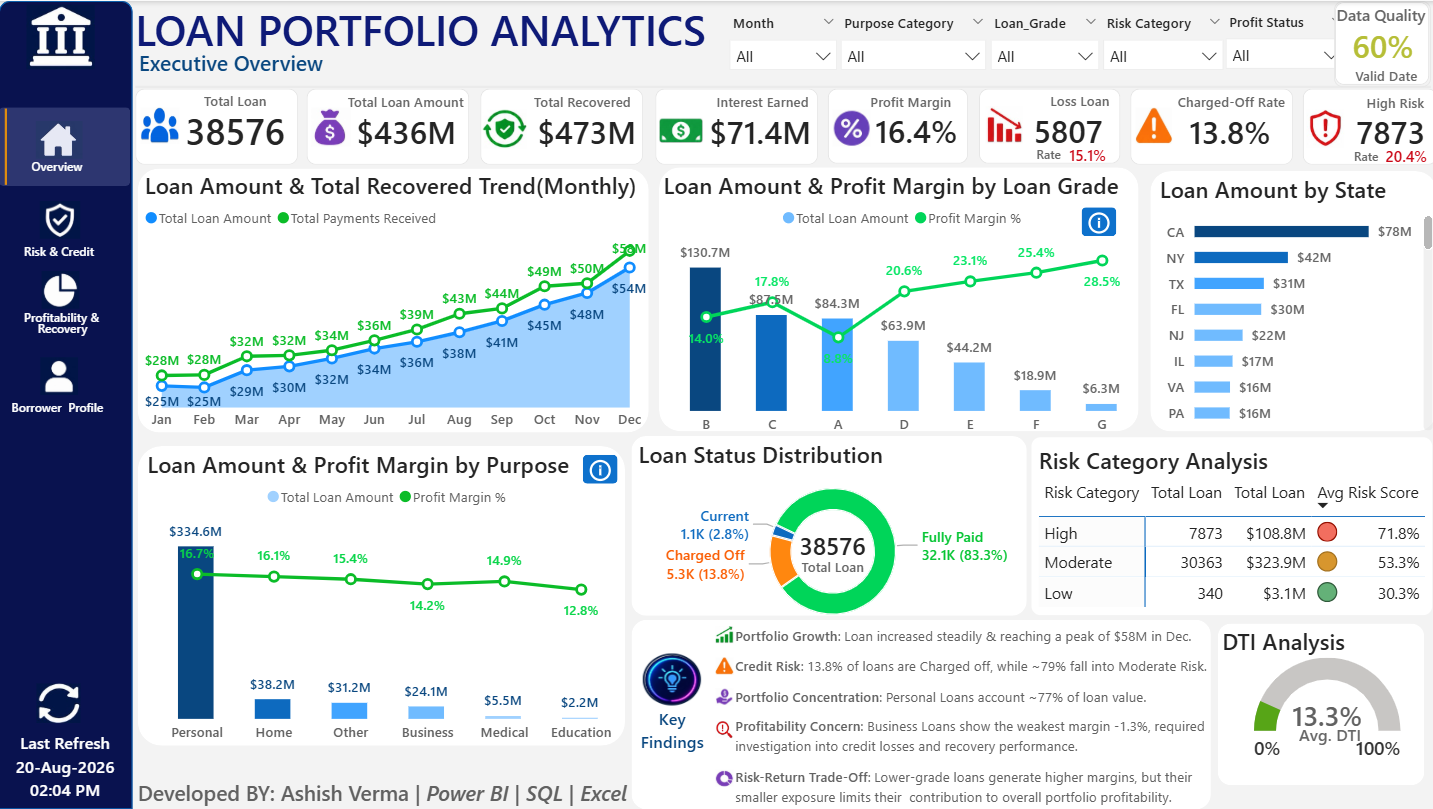

Layout of this report page (visuals, bound fields, positions):
{"tool":"powerbi","page":{"name":"Overview","canvas":[1280,720],"ordinal":0},"visuals":[{"type":"textbox","box":[121,0,522,50],"z":0,"group":"g28"},{"type":"cardVisual","fields":{"Data":["_Measures.In-Valid Loans"]},"box":[1189.3,0,86.4,76.7],"z":0,"group":"g39"},{"type":"slicer","fields":{"Values":["Dim_Date.Month Name"]},"box":[645.3,11.5,105.7,56],"z":0,"group":"g38"},{"type":"group","id":"g1","title":"Group 9","box":[121,78,145,68],"z":0,"group":"g26"},{"type":"cardVisual","fields":{"Data":["_Measures.Total Loan Count"]},"box":[121,78,145,68],"z":0,"group":"g1"},{"type":"cardVisual","fields":{"Data":["_Measures.Total Loan Amount"]},"box":[274,78,145,68],"z":0,"group":"g13"},{"type":"cardVisual","fields":{"Data":["_Measures.Total Payments Received"]},"box":[428,78,145,68],"z":0,"group":"g19"},{"type":"cardVisual","fields":{"Data":["_Measures.Total Profit"]},"box":[583.9,78,145,68],"z":0,"group":"g21"},{"type":"cardVisual","fields":{"Data":["_Measures.Charged Off Count %"]},"box":[1007,78,145,68],"z":0,"group":"g24"},{"type":"group","id":"g2","title":"Group 12","box":[1161,78,129.5,72.6],"z":0,"group":"g27"},{"type":"group","id":"g3","title":"Group 9","box":[1161,78,120.9,68],"z":0,"group":"g2"},{"type":"cardVisual","fields":{"Data":["_Measures.High Risk Loans Count"]},"box":[1161,78,120.9,68],"z":0,"group":"g3"},{"type":"cardVisual","fields":{"Data":["_Measures.Loss Loans Count"]},"box":[872,78.1,126.4,67.3],"z":0,"group":"g29"},{"type":"cardVisual","fields":{"Data":["_Measures.Profit Margin %"]},"box":[738.2,78.3,125.3,67.3],"z":0,"group":"g30"},{"type":"group","id":"g4","title":"Group 2","box":[0,95,116.9,70.1],"z":0,"group":"g14"},{"type":"group","id":"g5","title":"Group 1","box":[0,95,116.9,70.1],"z":0,"group":"g4"},{"type":"image","box":[20,107.8,66.8,33.4],"z":0,"group":"g5"},{"type":"cardVisual","fields":{"Data":["_Measures.Loss Loan Rate %"]},"box":[932,127.1,73.6,17.3],"z":0,"group":"g22"},{"type":"cardVisual","fields":{"Data":["_Measures.High Risk Count %"]},"box":[1216.8,128,73.6,17.3],"z":0,"group":"g15"},{"type":"shape","box":[588,148,427,235],"z":0,"group":"g32"},{"type":"shape","box":[124,149,455,235],"z":0,"group":"g31"},{"type":"shape","box":[1025,151,255,232],"z":0,"group":"g33"},{"type":"group","id":"g6","title":"Group 1","box":[21,178.3,66.9,53.5],"z":0,"group":"g20"},{"type":"image","box":[21,178.3,66.8,33.4],"z":0,"group":"g6"},{"type":"group","id":"g7","title":"Group 31","box":[963.2,183.2,31.7,26],"z":0,"group":"g45"},{"type":"group","id":"g8","title":"Group 5","box":[21,241.1,76.9,61.1],"z":0,"group":"g23"},{"type":"group","id":"g9","title":"Group 1","box":[21,241.1,76.9,52.6],"z":0,"group":"g16"},{"type":"image","box":[21,241.1,66.8,33.4],"z":0,"group":"g9"},{"type":"textbox","box":[34,281,54.5,21.2],"z":0,"group":"g8"},{"type":"group","id":"g10","title":"Group 2","box":[11,317.6,95,53.4],"z":0,"group":"g25"},{"type":"group","id":"g11","title":"Group 1","box":[11,317.6,95,53.4],"z":0,"group":"g10"},{"type":"image","box":[20,317.6,66.8,33.4],"z":0,"group":"g11"},{"type":"shape","box":[563,387,352,160],"z":0,"group":"g34"},{"type":"donutChart","title":"Loan Status Distribution","fields":{"Category":["Dim_Loan.Loan_Status"],"Y":["_Measures.Total Loan Count"]},"box":[565,387,354,175],"z":0,"group":"g17"},{"type":"shape","box":[124,396,434,267],"z":0},{"type":"group","id":"g12","title":"Group 31","box":[519.4,404,31.7,26],"z":0,"group":"g44"},{"type":"textbox","box":[714.8,492.4,64.9,27],"z":0,"group":"g18"},{"type":"shape","box":[1085,554,184,144],"z":0,"group":"g35"},{"type":"textbox","box":[656.3,554.1,424,21],"z":0,"group":"g40"},{"type":"image","box":[638.3,556.1,16,15],"z":0,"group":"g41"},{"type":"shape","box":[0,0,119,720],"z":1000},{"type":"slicer","fields":{"Values":["Dim_Loan.Loan_Grade"]},"box":[877.7,11.5,106.7,56],"z":1000,"group":"g38"},{"type":"textbox","box":[124,42,216,25],"z":1000,"group":"g28"},{"type":"textbox","box":[1208.3,55.2,68.3,21.1],"z":1000,"group":"g39"},{"type":"group","id":"g13","title":"Group 9","box":[274,78,145.3,68],"z":1000,"group":"g26"},{"type":"image","box":[877.9,93.5,33.6,33.6],"z":1000,"group":"g29"},{"type":"group","id":"g14","title":"Group 3","box":[0,95,116.9,70.1],"z":1000,"group":"g25"},{"type":"shape","box":[0,95,116.9,70.1],"z":1000,"group":"g5"},{"type":"image","box":[126,95,35,33],"z":1000,"group":"g1"},{"type":"image","box":[279,95,35,35],"z":1000,"group":"g13"},{"type":"image","box":[1012,95,33,33],"z":1000,"group":"g24"},{"type":"shape","box":[0,96.1,12.2,68],"z":1000,"group":"g4"},{"type":"image","box":[742.2,97,33.5,33],"z":1000,"group":"g30"},{"type":"image","box":[430.7,97.1,39.1,34.5],"z":1000,"group":"g19"},{"type":"image","box":[1164.6,97.1,33.6,33.6],"z":1000,"group":"g3"},{"type":"image","box":[587.5,102.5,39.1,25.5],"z":1000,"group":"g21"},{"type":"textbox","box":[922.8,126.1,37.3,23.6],"z":1000,"group":"g22"},{"type":"group","id":"g15","title":"Group 11","box":[1206.9,127,83.6,23.6],"z":1000,"group":"g2"},{"type":"textbox","box":[1206.9,127,37.3,23.6],"z":1000,"group":"g15"},{"type":"areaChart","title":"Loan Amount & Total Recovered Trend(Monthly)","fields":{"Category":["Dim_Date.Month Name"],"Y":["_Measures.Total Loan Amount","_Measures.Total Payments Received"]},"box":[126,148,455,238],"z":1000,"group":"g31"},{"type":"lineClusteredColumnComboChart","title":"Loan Amount & Profit Margin by Loan Grade","fields":{"Category":["Dim_Loan.Loan_Grade"],"Y":["_Measures.Total Loan Amount"],"Y2":["_Measures.Profit Margin %"]},"box":[588,148,433,242],"z":1000,"group":"g32"},{"type":"clusteredBarChart","title":"Loan Amount by State","fields":{"Category":["Dim_Customer.State"],"Y":["_Measures.Total Loan Amount"]},"box":[1029,150,251,234],"z":1000,"group":"g33"},{"type":"pieChart","fields":{"Y":["CountNonNull(Dim_Loan.Loan_Grade)"]},"box":[939.2,173.1,76.5,49.1],"z":1000,"group":"g45"},{"type":"textbox","box":[22.2,211.8,65.7,20],"z":1000,"group":"g6"},{"type":"group","id":"g16","title":"Group 2","box":[21,241.1,76.9,52.6],"z":1000,"group":"g8"},{"type":"textbox","box":[22.2,271.5,75.7,22.3],"z":1000,"group":"g9"},{"type":"textbox","box":[11,351,95,20],"z":1000,"group":"g11"},{"type":"group","id":"g17","title":"Group 18","box":[565,387,354,175],"z":1000,"group":"g34"},{"type":"pieChart","fields":{"Y":["CountNonNull(Dim_Loan.Loan_Grade)"]},"box":[495.4,393.9,76.5,49.1],"z":1000,"group":"g44"},{"type":"group","id":"g18","title":"Group 20","box":[701,467,82,52],"z":1000,"group":"g17"},{"type":"cardVisual","fields":{"Data":["_Measures.Total Loan Count"]},"box":[701,467,82.6,33],"z":1000,"group":"g18"},{"type":"gauge","title":"DTI Analysis","fields":{"Y":["_Measures.Avg DTI"]},"box":[1085,554,195,132],"z":1000,"group":"g35"},{"type":"image","box":[638.3,584.1,16,15],"z":1000,"group":"g41"},{"type":"textbox","box":[656.3,609.1,424,26],"z":1000,"group":"g40"},{"type":"image","box":[24,0,61,64],"z":2000},{"type":"textbox","box":[1191.4,2.3,88.4,23.3],"z":2000,"group":"g39"},{"type":"textbox","box":[181.8,78,84.2,42],"z":2000,"group":"g1"},{"type":"group","id":"g19","title":"Group 9","box":[428,78,145.6,68],"z":2000,"group":"g26"},{"type":"textbox","box":[935.2,78,80.9,24.5],"z":2000,"group":"g29"},{"type":"textbox","box":[775.6,79,102.4,23],"z":2000,"group":"g30"},{"type":"textbox","box":[638.1,79.1,90.9,22.7],"z":2000,"group":"g21"},{"type":"textbox","box":[475.4,79.2,98.2,39.1],"z":2000,"group":"g19"},{"type":"textbox","box":[1049.8,79.2,102.7,22.7],"z":2000,"group":"g24"},{"type":"textbox","box":[310.5,79.6,108.8,27.5],"z":2000,"group":"g13"},{"type":"textbox","box":[1217.4,79.7,59.1,21.8],"z":2000,"group":"g3"},{"type":"textbox","box":[28.9,136.2,56.8,18.9],"z":2000,"group":"g5"},{"type":"group","id":"g20","title":"Group 2","box":[21,178.3,66.9,53.5],"z":2000,"group":"g25"},{"type":"image","box":[638.3,612.1,16,15],"z":2000,"group":"g41"},{"type":"textbox","box":[656.3,634.6,424,40],"z":2000,"group":"g40"},{"type":"textbox","box":[1157,643,60,23],"z":2000,"group":"g35"},{"type":"slicer","fields":{"Values":["Dim_Loan.Purpose_Category"]},"box":[744.1,11.5,139.7,56],"z":3000,"group":"g38"},{"type":"shape","box":[121,73,1154,6],"z":3000},{"type":"group","id":"g21","title":"Group 9","box":[583.9,78,145.1,68],"z":3000,"group":"g26"},{"type":"group","id":"g22","title":"Group 13","box":[922.8,126.1,82.8,23.6],"z":3000,"group":"g29"},{"type":"group","id":"g23","title":"Group 4","box":[21,241.1,76.9,61.1],"z":3000,"group":"g25"},{"type":"textbox","box":[656.3,580.6,472,23],"z":3000,"group":"g40"},{"type":"image","box":[638.3,641.1,16,15],"z":3000,"group":"g41"},{"type":"slicer","fields":{"Values":["Dim_Risk.Risk_Category"]},"box":[978.5,11.5,116.7,56],"z":4000,"group":"g38"},{"type":"group","id":"g24","title":"Group 9","box":[1007,78,145.5,68],"z":4000,"group":"g26"},{"type":"group","id":"g25","title":"Group 6","box":[0,95,116.9,276],"z":4000},{"type":"textbox","box":[656.3,680.1,424,40],"z":4000,"group":"g40"},{"type":"image","box":[638.3,684.1,16,15],"z":4000,"group":"g41"},{"type":"slicer","fields":{"Values":["Dim_Loan.Profit_Status"]},"box":[1086.8,10,116.3,57],"z":4500,"group":"g38"},{"type":"group","id":"g26","title":"Group 16","box":[121,78,1169.5,72.6],"z":5000},{"type":"group","id":"g27","title":"Group 10","box":[1161,78,129.5,72.6],"z":5000,"group":"g26"},{"type":"group","id":"g28","title":"Group 17","box":[121,0,522,67],"z":6000},{"type":"group","id":"g29","title":"Group 14","box":[872,78,144.1,71.7],"z":6000,"group":"g26"},{"type":"group","id":"g30","title":"Group 15","box":[738.2,78.3,139.8,67.3],"z":7000,"group":"g26"},{"type":"pageNavigator","box":[0,93,106,299],"z":7000},{"type":"pivotTable","title":"Risk Category Analysis","fields":{"Rows":["Dim_Risk.Risk_Category"],"Values":["_Measures.Total Loan Count","_Measures.Total Loan Amount","_Measures.Avg Risk Score"]},"box":[920,388,357,158],"z":8000},{"type":"lineClusteredColumnComboChart","title":"Loan Amount & Profit Margin by Purpose","fields":{"Category":["Dim_Loan.Purpose_Category"],"Y2":["_Measures.Profit Margin %"],"Y":["_Measures.Total Loan Amount"]},"box":[128,396,435,268],"z":9000},{"type":"group","id":"g31","title":"Group 21","box":[124,148,457,238],"z":10000},{"type":"group","id":"g32","title":"Group 22","box":[588,148,433,242],"z":11000},{"type":"group","id":"g33","title":"Group 23","box":[1025,150,255,234],"z":12000},{"type":"shape","box":[563.3,551.1,516,169],"z":12000,"group":"g36"},{"type":"group","id":"g34","title":"Group 24","box":[563,387,356,175],"z":13000},{"type":"group","id":"g35","title":"Group 19","box":[1085,554,195,144],"z":14000},{"type":"group","id":"g36","title":"Group 29","box":[563.3,551.1,564.4,168.9],"z":15000},{"type":"group","id":"g37","title":"Group 30","box":[0,608,118,112],"z":16000},{"type":"group","id":"g38","title":"Group 7","box":[645.3,10,557.7,57.4],"z":17000},{"type":"group","id":"g39","title":"Group 8","box":[1189.3,0,90.5,76.7],"z":18000},{"type":"group","id":"g40","title":"Group 25","box":[656.3,554.1,472,166],"z":18000,"group":"g42"},{"type":"cardVisual","fields":{"Data":["_Measures.Last_Refresh"]},"box":[0,641,118,79],"z":18000,"group":"g37"},{"type":"group","id":"g41","title":"Group 26","box":[638.3,556.1,16,143],"z":18505,"group":"g42"},{"type":"group","id":"g42","title":"Group 27","box":[638.3,554.1,490,166],"z":18506,"group":"g36"},{"type":"image","box":[33,608,39,35],"z":19000,"group":"g37"},{"type":"textbox","box":[123.4,692.7,450.6,27.6],"z":19000},{"type":"actionButton","box":[963.2,183.2,31,26],"z":19001,"group":"g7"},{"type":"actionButton","box":[519.4,404,31,26],"z":19001,"group":"g12"},{"type":"textbox","box":[566.3,629.1,66,48],"z":19006,"group":"g43"},{"type":"image","box":[573.3,581.1,52,46],"z":19506,"group":"g43"},{"type":"group","id":"g43","title":"Group 28","box":[566.3,581.1,66,96],"z":19507,"group":"g36"},{"type":"group","id":"g44","title":"Group 32","box":[495.4,393.9,76.5,49.1],"z":20000},{"type":"group","id":"g45","title":"Group 32","box":[939.2,173.1,76.5,49.1],"z":21000}]}

Visuals, with their boxes on the page's 1280x720 design canvas (x1, y1, x2, y2). These are canvas units, not pixel positions in the 1433x809 screenshot, which may show the page scaled, cropped or inside an application window:
textbox: 121,0,643,50
cardVisual - _Measures.In-Valid Loans: 1189,0,1276,77
slicer - Dim_Date.Month Name: 645,12,751,68
"Group 9" group: 121,78,266,146
cardVisual - _Measures.Total Loan Count: 121,78,266,146
cardVisual - _Measures.Total Loan Amount: 274,78,419,146
cardVisual - _Measures.Total Payments Received: 428,78,573,146
cardVisual - _Measures.Total Profit: 584,78,729,146
cardVisual - _Measures.Charged Off Count %: 1007,78,1152,146
"Group 12" group: 1161,78,1290,151
"Group 9" group: 1161,78,1282,146
cardVisual - _Measures.High Risk Loans Count: 1161,78,1282,146
cardVisual - _Measures.Loss Loans Count: 872,78,998,145
cardVisual - _Measures.Profit Margin %: 738,78,864,146
"Group 2" group: 0,95,117,165
"Group 1" group: 0,95,117,165
image: 20,108,87,141
cardVisual - _Measures.Loss Loan Rate %: 932,127,1006,144
cardVisual - _Measures.High Risk Count %: 1217,128,1290,145
shape: 588,148,1015,383
shape: 124,149,579,384
shape: 1025,151,1280,383
"Group 1" group: 21,178,88,232
image: 21,178,88,212
"Group 31" group: 963,183,995,209
"Group 5" group: 21,241,98,302
"Group 1" group: 21,241,98,294
image: 21,241,88,274
textbox: 34,281,88,302
"Group 2" group: 11,318,106,371
"Group 1" group: 11,318,106,371
image: 20,318,87,351
shape: 563,387,915,547
"Loan Status Distribution" donutChart: 565,387,919,562
shape: 124,396,558,663
"Group 31" group: 519,404,551,430
textbox: 715,492,780,519
shape: 1085,554,1269,698
textbox: 656,554,1080,575
image: 638,556,654,571
shape: 0,0,119,720
slicer - Dim_Loan.Loan_Grade: 878,12,984,68
textbox: 124,42,340,67
textbox: 1208,55,1277,76
"Group 9" group: 274,78,419,146
image: 878,94,912,127
"Group 3" group: 0,95,117,165
shape: 0,95,117,165
image: 126,95,161,128
image: 279,95,314,130
image: 1012,95,1045,128
shape: 0,96,12,164
image: 742,97,776,130
image: 431,97,470,132
image: 1165,97,1198,131
image: 588,102,627,128
textbox: 923,126,960,150
"Group 11" group: 1207,127,1290,151
textbox: 1207,127,1244,151
"Loan Amount & Total Recovered Trend(Monthly)" areaChart: 126,148,581,386
"Loan Amount & Profit Margin by Loan Grade" lineClusteredColumnComboChart: 588,148,1021,390
"Loan Amount by State" clusteredBarChart: 1029,150,1280,384
pieChart - CountNonNull(Dim_Loan.Loan_Grade): 939,173,1016,222
textbox: 22,212,88,232
"Group 2" group: 21,241,98,294
textbox: 22,272,98,294
textbox: 11,351,106,371
"Group 18" group: 565,387,919,562
pieChart - CountNonNull(Dim_Loan.Loan_Grade): 495,394,572,443
"Group 20" group: 701,467,783,519
cardVisual - _Measures.Total Loan Count: 701,467,784,500
"DTI Analysis" gauge: 1085,554,1280,686
image: 638,584,654,599
textbox: 656,609,1080,635
image: 24,0,85,64
textbox: 1191,2,1280,26
textbox: 182,78,266,120
"Group 9" group: 428,78,574,146
textbox: 935,78,1016,102
textbox: 776,79,878,102
textbox: 638,79,729,102
textbox: 475,79,574,118
textbox: 1050,79,1152,102
textbox: 310,80,419,107
textbox: 1217,80,1276,102
textbox: 29,136,86,155
"Group 2" group: 21,178,88,232
image: 638,612,654,627
textbox: 656,635,1080,675
textbox: 1157,643,1217,666
slicer - Dim_Loan.Purpose_Category: 744,12,884,68
shape: 121,73,1275,79
"Group 9" group: 584,78,729,146
"Group 13" group: 923,126,1006,150
"Group 4" group: 21,241,98,302
textbox: 656,581,1128,604
image: 638,641,654,656
slicer - Dim_Risk.Risk_Category: 978,12,1095,68
"Group 9" group: 1007,78,1152,146
"Group 6" group: 0,95,117,371
textbox: 656,680,1080,720
image: 638,684,654,699
slicer - Dim_Loan.Profit_Status: 1087,10,1203,67
"Group 16" group: 121,78,1290,151
"Group 10" group: 1161,78,1290,151
"Group 17" group: 121,0,643,67
"Group 14" group: 872,78,1016,150
"Group 15" group: 738,78,878,146
pageNavigator: 0,93,106,392
"Risk Category Analysis" pivotTable: 920,388,1277,546
"Loan Amount & Profit Margin by Purpose" lineClusteredColumnComboChart: 128,396,563,664
"Group 21" group: 124,148,581,386
"Group 22" group: 588,148,1021,390
"Group 23" group: 1025,150,1280,384
shape: 563,551,1079,720
"Group 24" group: 563,387,919,562
"Group 19" group: 1085,554,1280,698
"Group 29" group: 563,551,1128,720
"Group 30" group: 0,608,118,720
"Group 7" group: 645,10,1203,67
"Group 8" group: 1189,0,1280,77
"Group 25" group: 656,554,1128,720
cardVisual - _Measures.Last_Refresh: 0,641,118,720
"Group 26" group: 638,556,654,699
"Group 27" group: 638,554,1128,720
image: 33,608,72,643
textbox: 123,693,574,720
actionButton: 963,183,994,209
actionButton: 519,404,550,430
textbox: 566,629,632,677
image: 573,581,625,627
"Group 28" group: 566,581,632,677
"Group 32" group: 495,394,572,443
"Group 32" group: 939,173,1016,222
